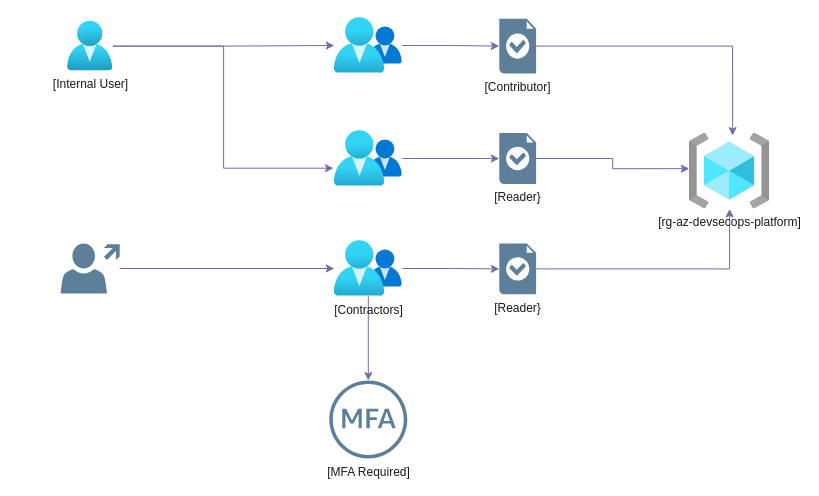
This 819x496 diagram has some shape labels left out. Here are the shapes that lost their labels. From the top down, the box of each, then its label:
(334, 17, 402, 73): [Platform-Admins]
(334, 130, 402, 186): [App-Users]
(60, 243, 119, 293): [Contractor (External User)]
